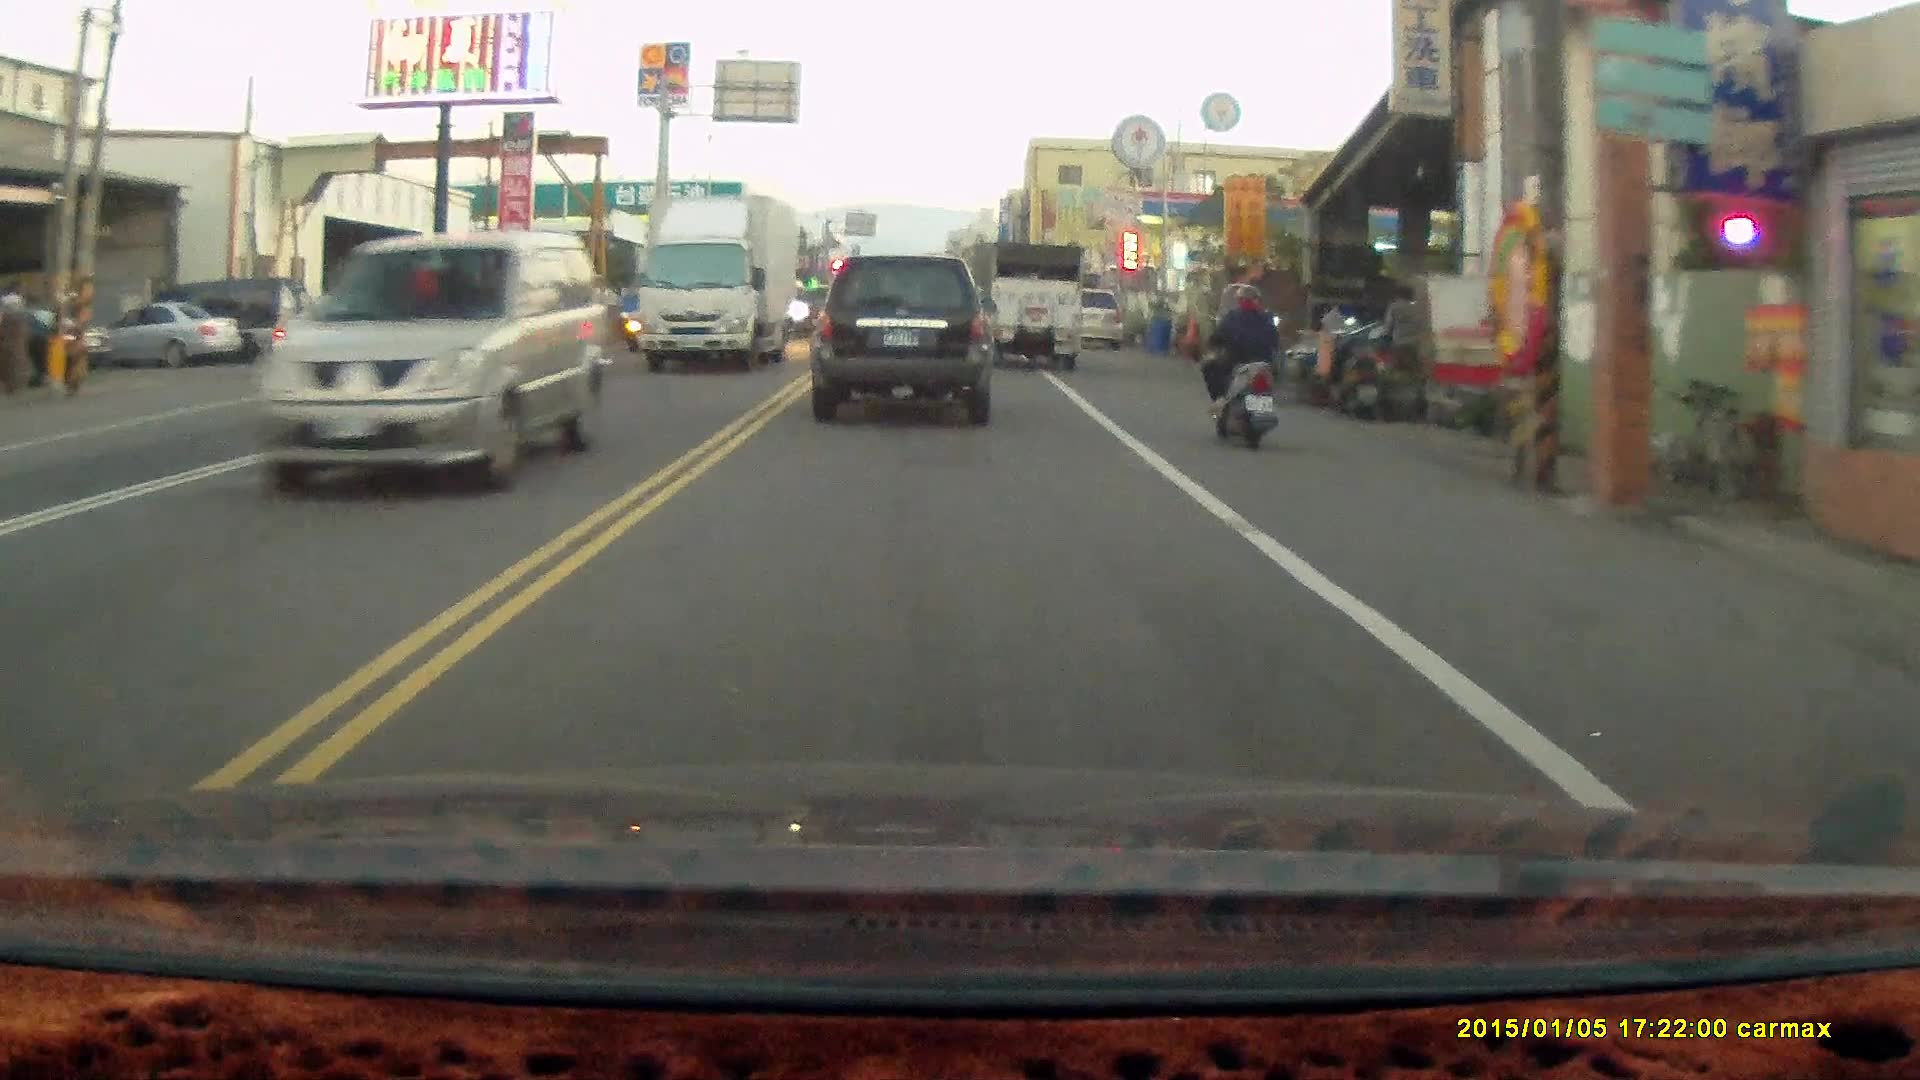pedestrian: (1381, 281, 1425, 403)
rider: (1193, 285, 1283, 454)
vehicle: (268, 230, 605, 490), (809, 254, 996, 429), (635, 193, 798, 372), (983, 239, 1082, 371), (113, 304, 250, 372)
